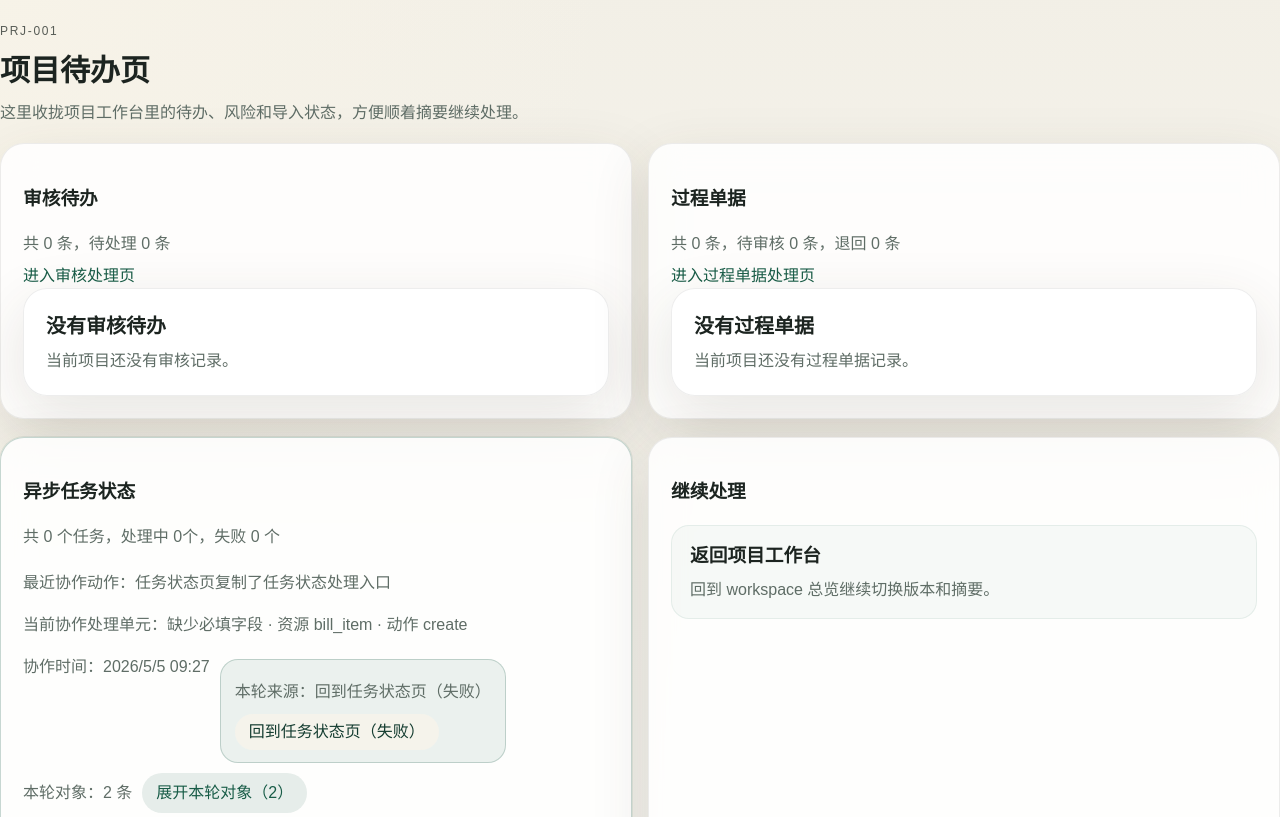
Scenario: ProjectWorkspaceInboxPage › shows recent failure-subset entries from task-status collaboration memory
Expected: the heading "项目待办页" is shown, [0, 54, 150, 87]
Expected: the text "最近协作动作：任务状态页复制了任务状态处理入口" is shown, [23, 571, 391, 595]
Click the button "展开本轮对象（2）". click: (225, 793)
box: [142, 773, 307, 813]
(page scrolled)
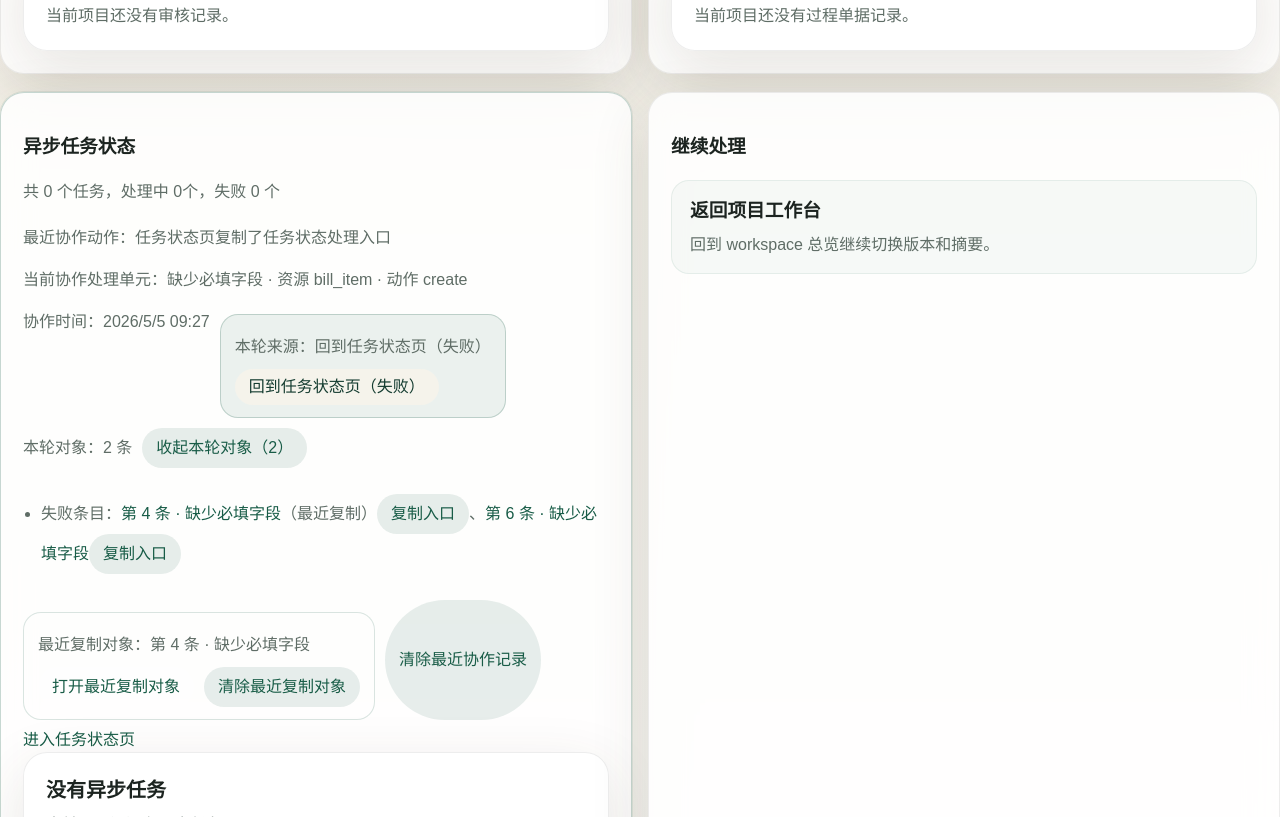
Expected: the text "最近复制对象：第 4 条 · 缺少必填字段" is shown, [38, 636, 310, 653]
Result: the text "失败条目：" is shown at [41, 505, 121, 522]
